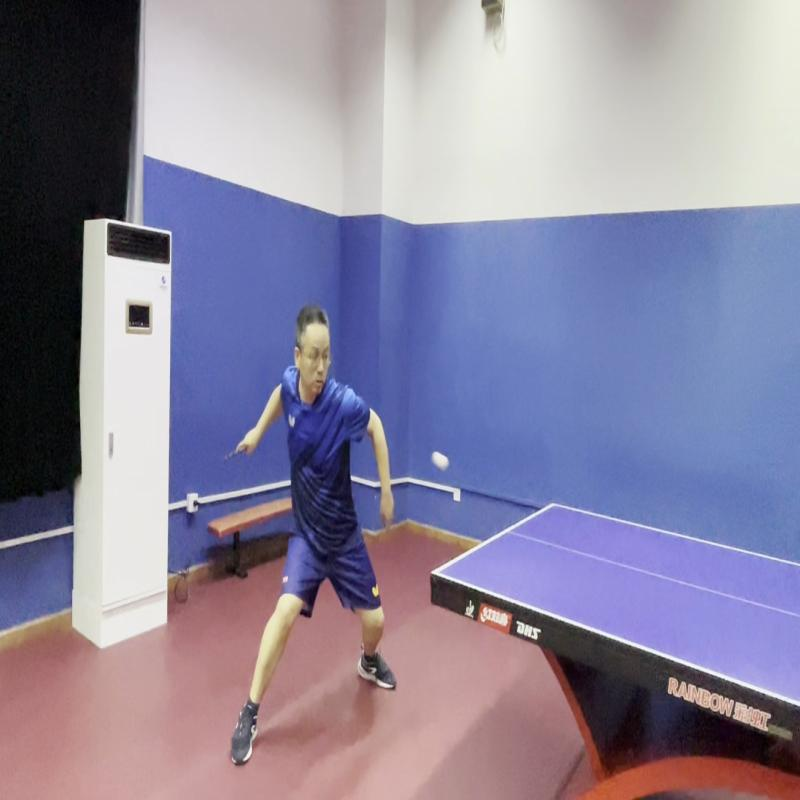bats: (216, 420, 252, 475)
